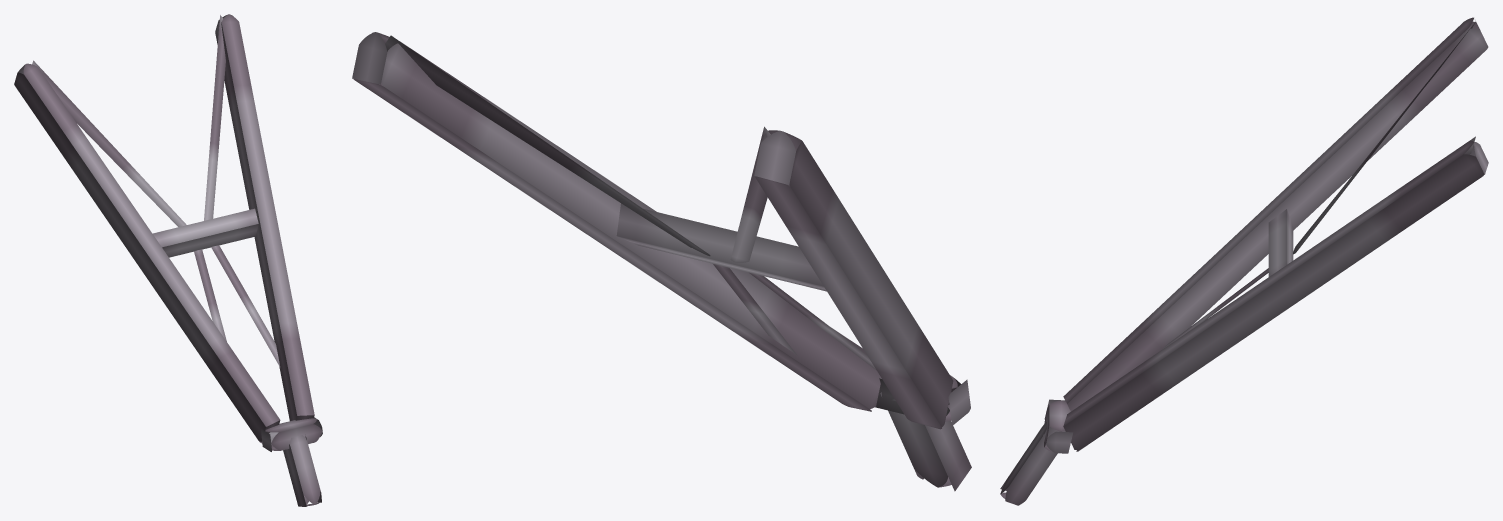
Rendered from hxd3d_panto_small_arm.obj.
The picture shows the model from 3 angles, left to right: view 1: azimuth 30°, elevation 25°; view 2: azimuth 150°, elevation 25°; view 3: azimuth 270°, elevation 25°; orthographic projection. The views are drawn at different scales.
Visible parts, largest first — view 1: second; view 2: second; view 3: second.
Part boxes in pixels (left/top/right/bottom): second: left=14, top=14, right=322, bottom=506; second: left=352, top=32, right=971, bottom=491; second: left=1000, top=17, right=1488, bottom=505.
Size of the model in its own units: 0.8978 by 1.32 by 1.38.
